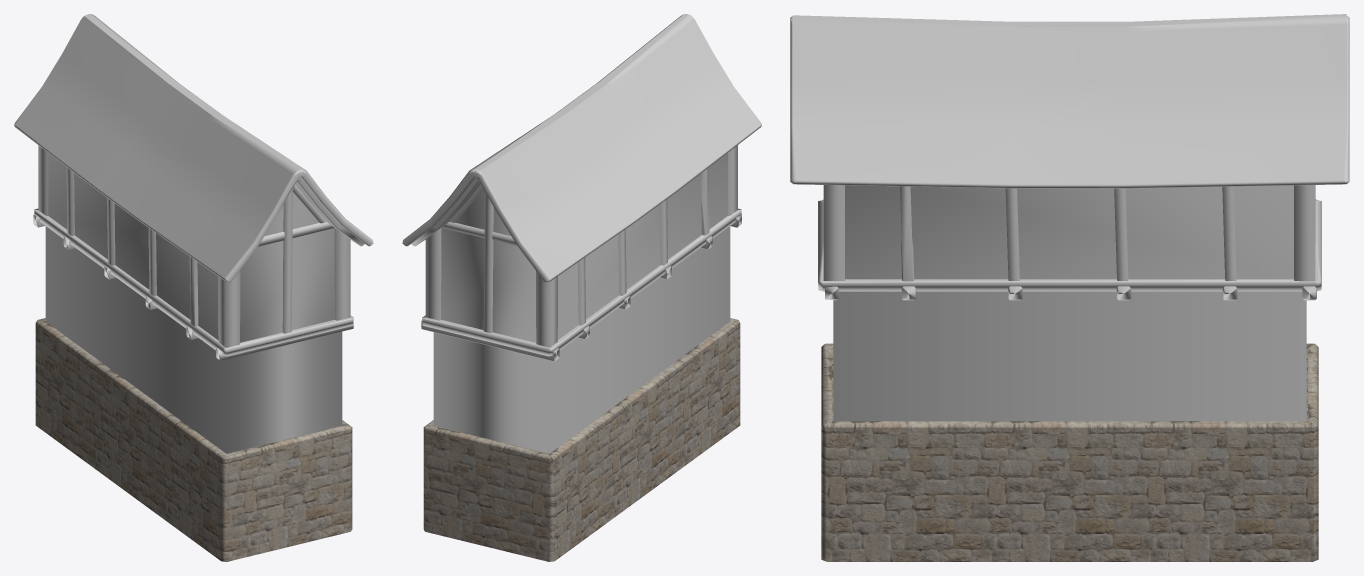
The model's file is HouseBricksThin_1.fbx.
3 views of the same model, side by side, from view 1: azimuth 30°, elevation 25°; view 2: azimuth 150°, elevation 25°; view 3: azimuth 270°, elevation 25° (orthographic). The views are drawn at different scales.
Visible parts, largest first — view 1: Mesh; view 2: Mesh; view 3: Mesh.
Part boxes in pixels (<box>): Mesh: <box>14,14,373,561</box>; Mesh: <box>402,14,761,561</box>; Mesh: <box>790,14,1349,561</box>.
Bounding box in the file's own units: 444 × 1106 × 1110.
